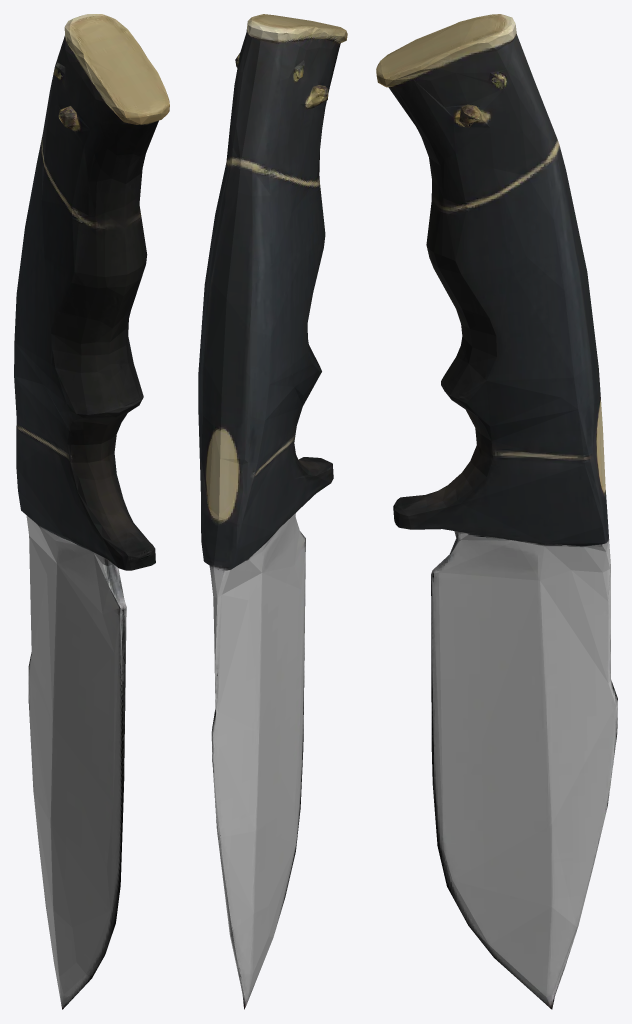
Rendered from black_knife.glb.
3 views of the same model, side by side, from view 1: azimuth 30°, elevation 25°; view 2: azimuth 150°, elevation 25°; view 3: azimuth 270°, elevation 25° (orthographic). The views are drawn at different scales.
Visible parts, largest first — view 1: geometry_0.009; view 2: geometry_0.009; view 3: geometry_0.009.
Boxes of the visible parts, left/top/right/bottom form: geometry_0.009: left=14, top=14, right=169, bottom=1009; geometry_0.009: left=198, top=14, right=347, bottom=1009; geometry_0.009: left=376, top=14, right=617, bottom=1009.
Bounding box in the file's own units: 0.0237 × 0.249 × 0.0552.
1 material, 1 textured.
